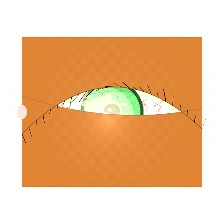corneal_ulcer: (71, 90, 135, 141)
